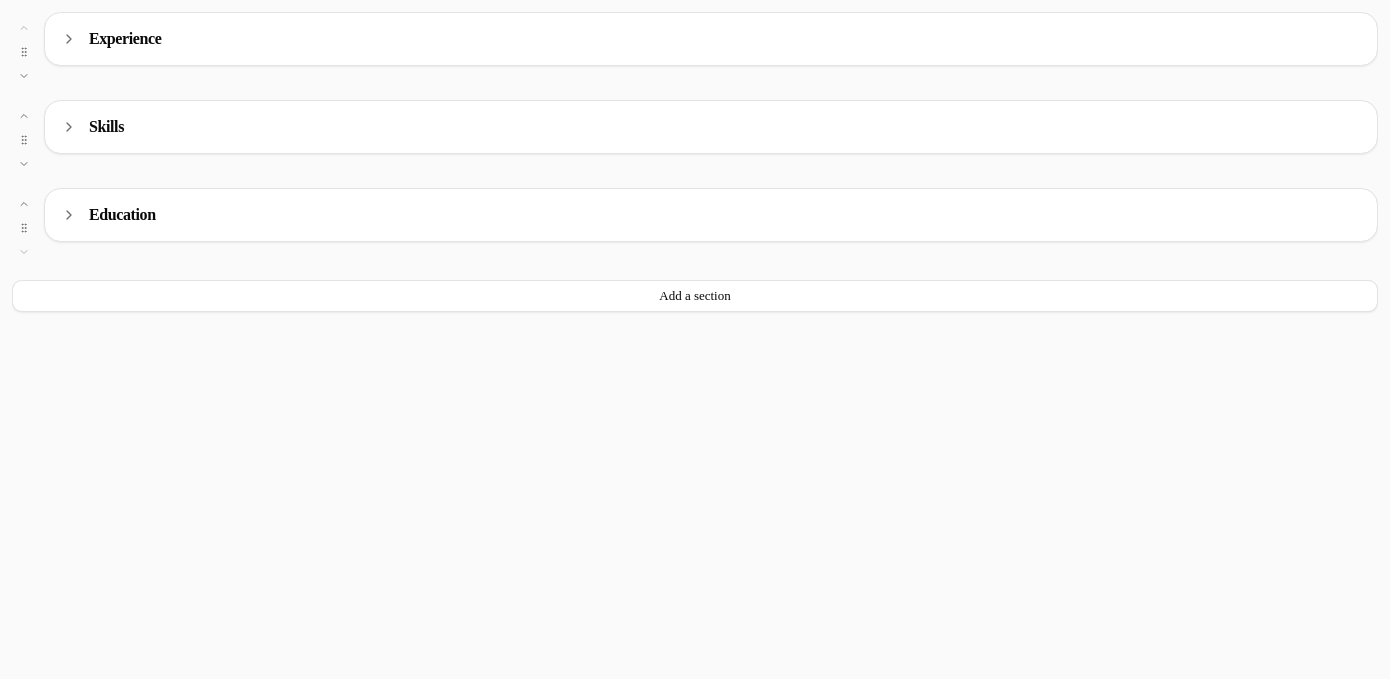
editing an entry › refuses a backwards range without asking the server
Click the button "Experience" at (125, 38), box 45,13 -> 1377,65
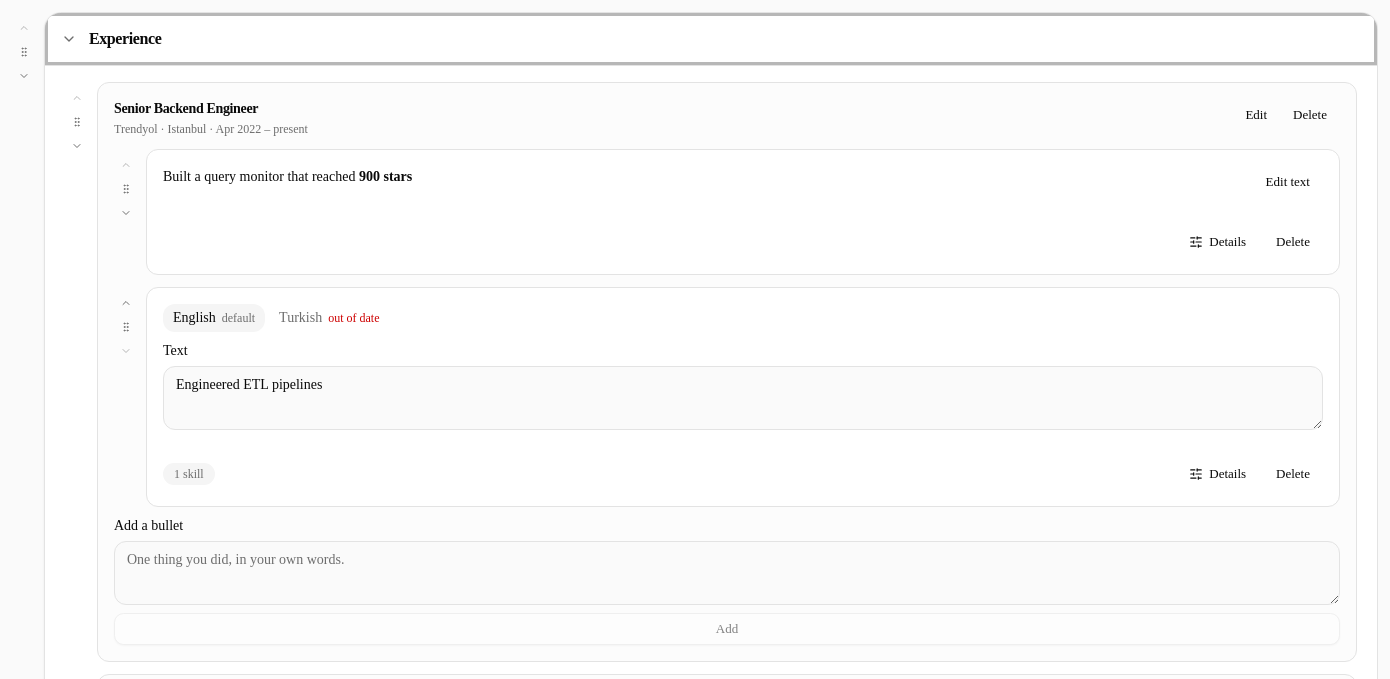
Click the button with aria-label "Edit the entry Senior Backend Engineer" at (1256, 115), box 1232,99 -> 1280,131
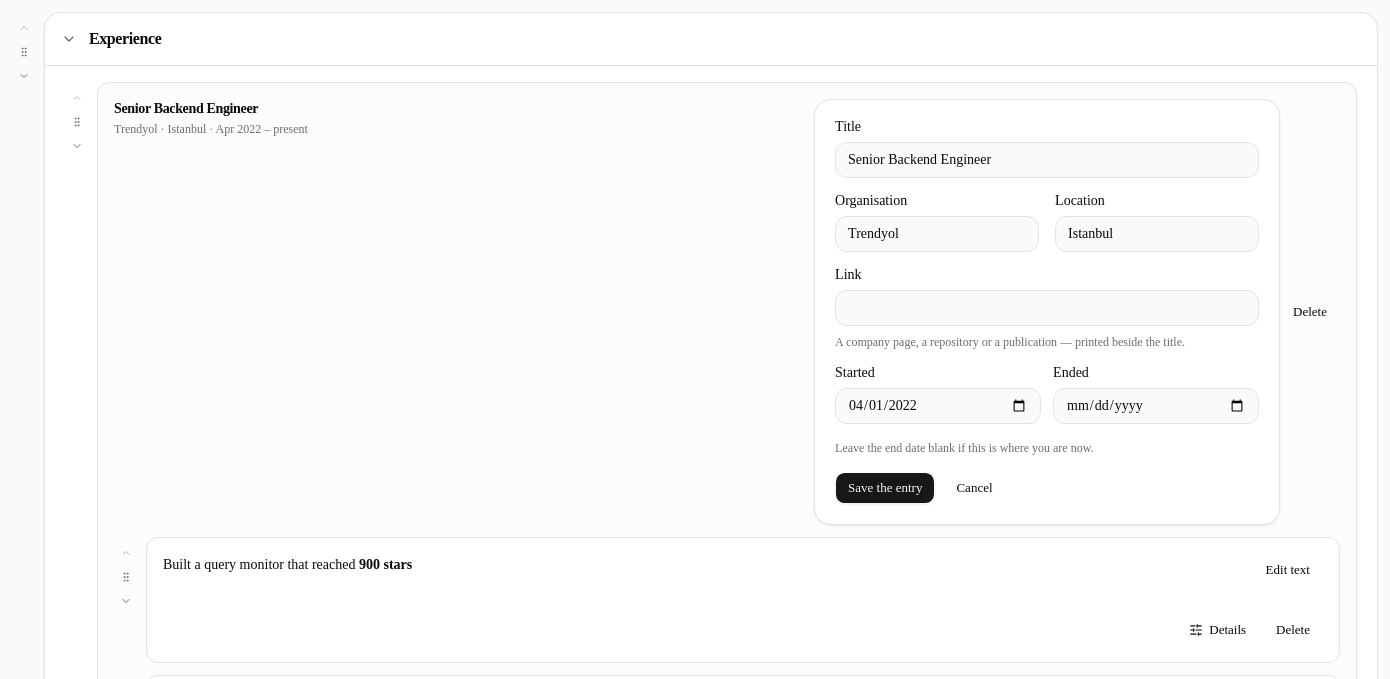
Type "2019-01-01" into the date field labelled "Ended" at (1156, 406), box 1053,388 -> 1259,424
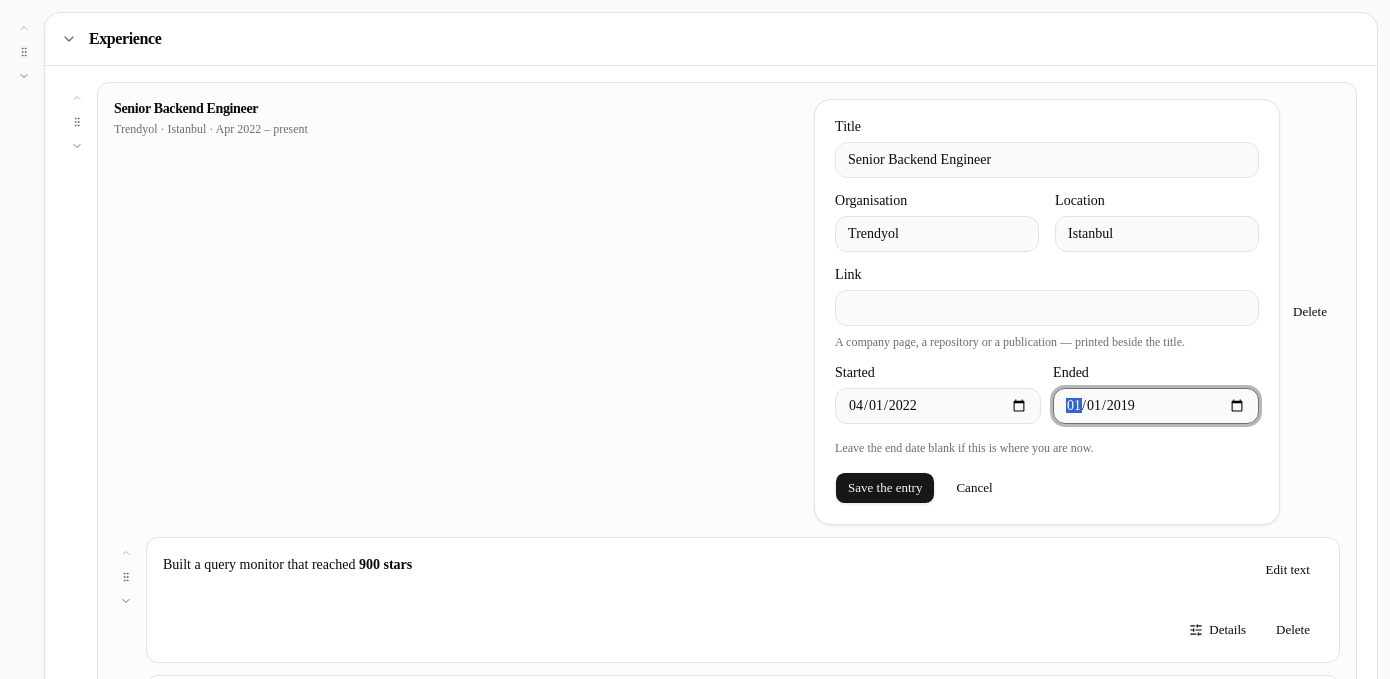
Click the button "Save the entry" at (885, 488), box 835,472 -> 936,504
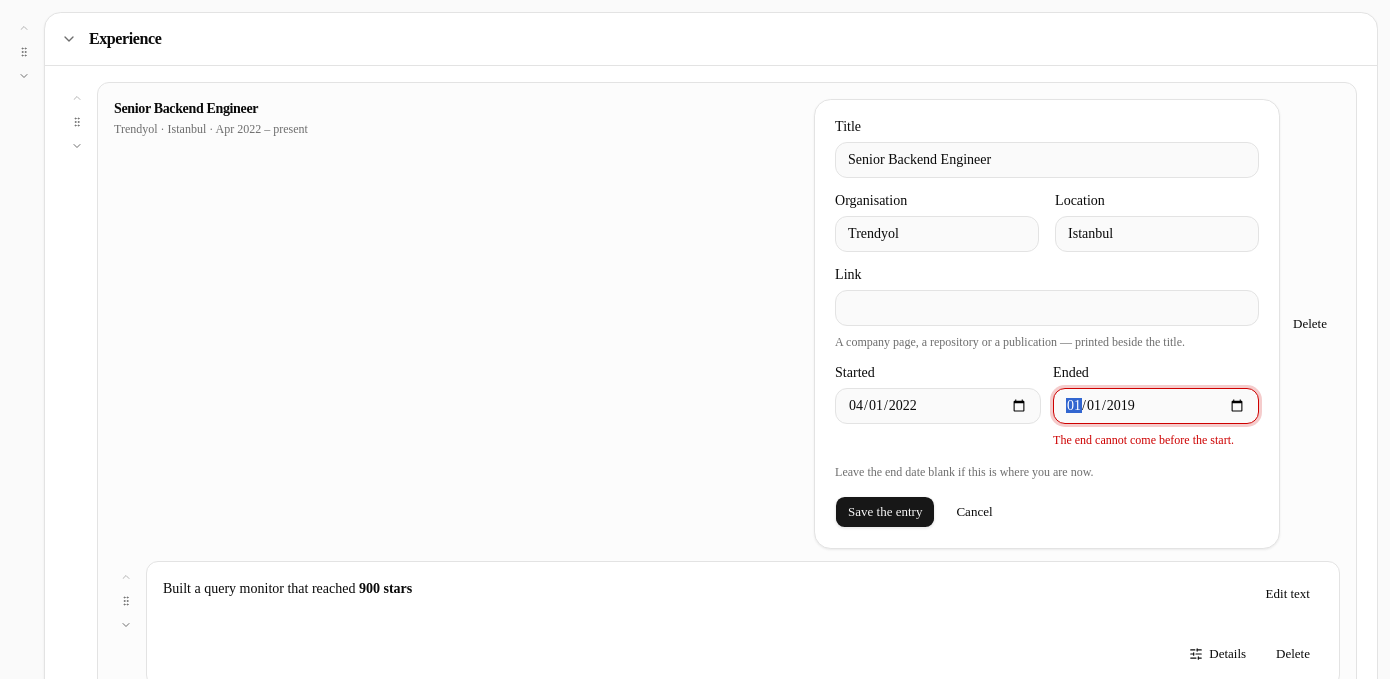
Expected: the text "The end cannot come before the start." is shown, 1053,432 -> 1259,448
